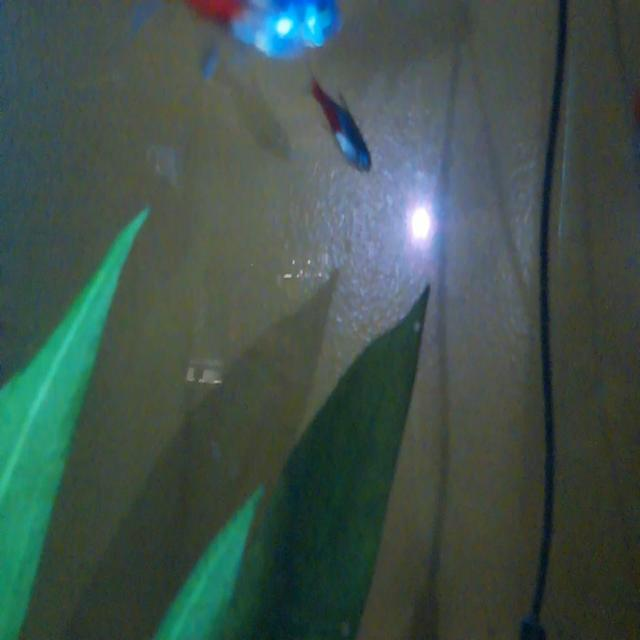fish: (303, 69, 382, 182)
